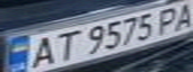5: (133, 10, 163, 40), (103, 19, 127, 51)
7: (118, 15, 145, 46)
9: (81, 22, 109, 56)
A: (21, 34, 63, 70), (166, 1, 193, 31)
P: (151, 4, 187, 36)
T: (45, 29, 84, 62)
